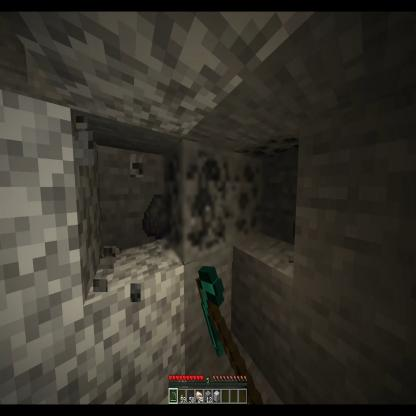coal ore: (161, 142, 233, 262), (226, 153, 267, 246)
